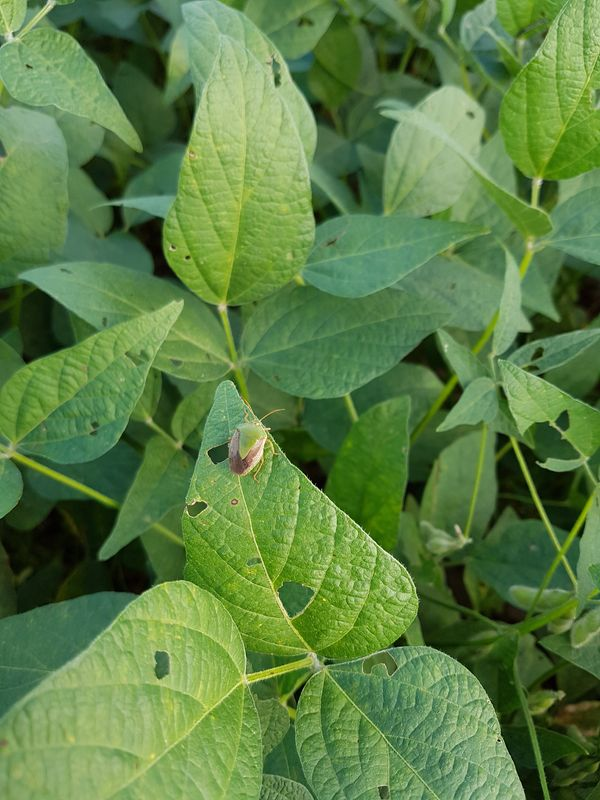Edessa_meditabunda: (222, 400, 288, 485)
